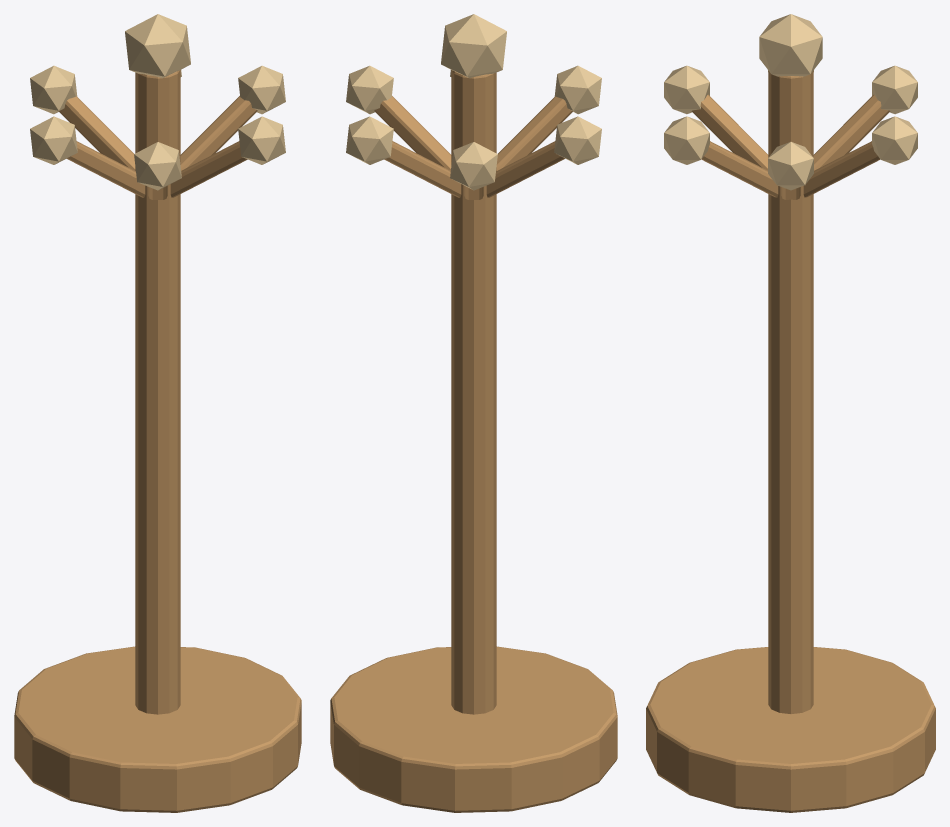
File: S050_standing_coatrack.glb
3 views of the same model, side by side, from view 1: azimuth 30°, elevation 25°; view 2: azimuth 150°, elevation 25°; view 3: azimuth 270°, elevation 25° (orthographic).
Parts seen in each view (by area): view 1: rack_base, rack_trunk, rack_top, coat_hook, coat_hook.002, hook_knob.003, hook_knob.004, hook_knob.005, hook_knob.002, hook_knob, coat_hook.005, coat_hook.003; view 2: rack_base, rack_trunk, rack_top, coat_hook, coat_hook.004, hook_knob.003, hook_knob.002, hook_knob.001, hook_knob.004, hook_knob, coat_hook.001, coat_hook.003; view 3: rack_base, rack_trunk, rack_top, coat_hook.002, coat_hook.004, hook_knob, hook_knob.001, hook_knob.005, hook_knob.002, hook_knob.004, coat_hook.001, coat_hook.005.
Part boxes in pixels (bbox=[...]): rack_base: bbox=[14, 646, 301, 812]; rack_trunk: bbox=[135, 70, 180, 714]; rack_top: bbox=[125, 14, 190, 78]; coat_hook: bbox=[180, 96, 257, 170]; coat_hook.002: bbox=[59, 96, 135, 170]; hook_knob.003: bbox=[30, 116, 77, 164]; hook_knob.004: bbox=[134, 142, 181, 190]; hook_knob.005: bbox=[238, 116, 285, 164]; hook_knob.002: bbox=[30, 65, 77, 114]; hook_knob: bbox=[238, 65, 285, 114]; coat_hook.005: bbox=[170, 141, 247, 197]; coat_hook.003: bbox=[67, 141, 145, 197]; rack_base: bbox=[330, 646, 617, 812]; rack_trunk: bbox=[451, 70, 496, 714]; rack_top: bbox=[441, 14, 506, 78]; coat_hook: bbox=[374, 96, 451, 170]; coat_hook.004: bbox=[496, 96, 572, 170]; hook_knob.003: bbox=[554, 116, 601, 164]; hook_knob.002: bbox=[450, 142, 497, 190]; hook_knob.001: bbox=[346, 116, 393, 164]; hook_knob.004: bbox=[554, 65, 601, 114]; hook_knob: bbox=[346, 65, 393, 114]; coat_hook.001: bbox=[384, 141, 461, 197]; coat_hook.003: bbox=[486, 141, 564, 197]; rack_base: bbox=[646, 647, 935, 812]; rack_trunk: bbox=[768, 71, 813, 713]; rack_top: bbox=[759, 14, 822, 76]; coat_hook.002: bbox=[813, 94, 890, 170]; coat_hook.004: bbox=[691, 94, 768, 170]; hook_knob: bbox=[768, 142, 813, 190]; hook_knob.001: bbox=[872, 116, 917, 164]; hook_knob.005: bbox=[664, 116, 709, 164]; hook_knob.002: bbox=[872, 65, 917, 114]; hook_knob.004: bbox=[664, 65, 709, 114]; coat_hook.001: bbox=[803, 141, 880, 197]; coat_hook.005: bbox=[701, 141, 778, 197].
Bounding box in the file's own units: 0.7 × 1.97 × 0.7.
